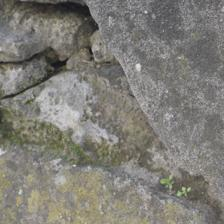Crack: (0, 8, 77, 64), (43, 56, 75, 77)
